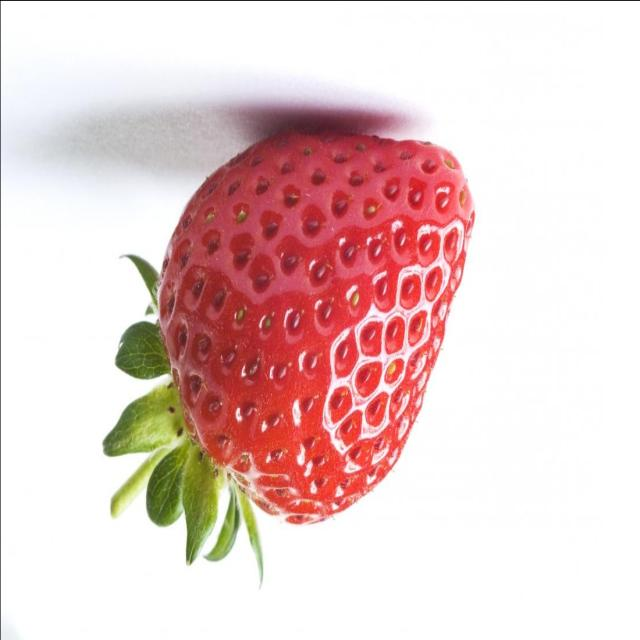strawberry: (66, 90, 498, 586)
